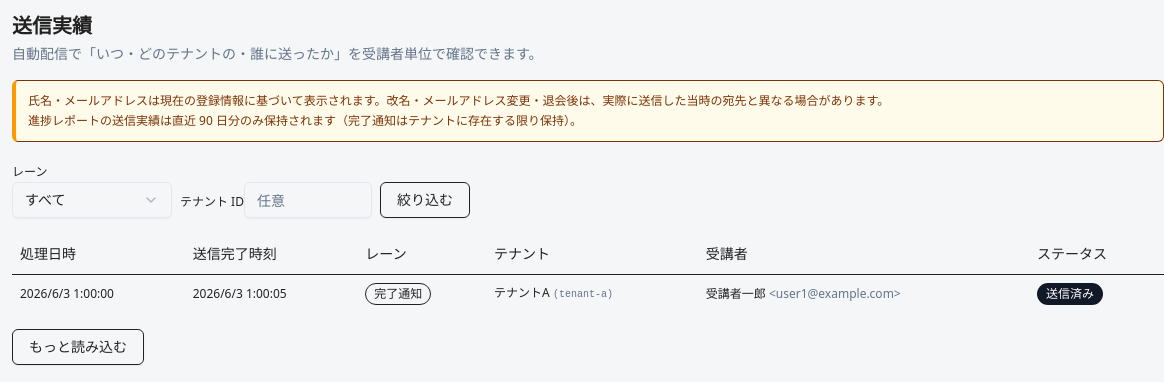
Scenario: DispatchHistoryPage › nextCursor があれば「もっと読み込む」で append する
The image size is (1164, 382).
Expected: the text "受講者一郎" is shown, [706, 284, 766, 302]
Step 1. Click the button "もっと読み込む" → (78, 346), box [12, 328, 144, 364]
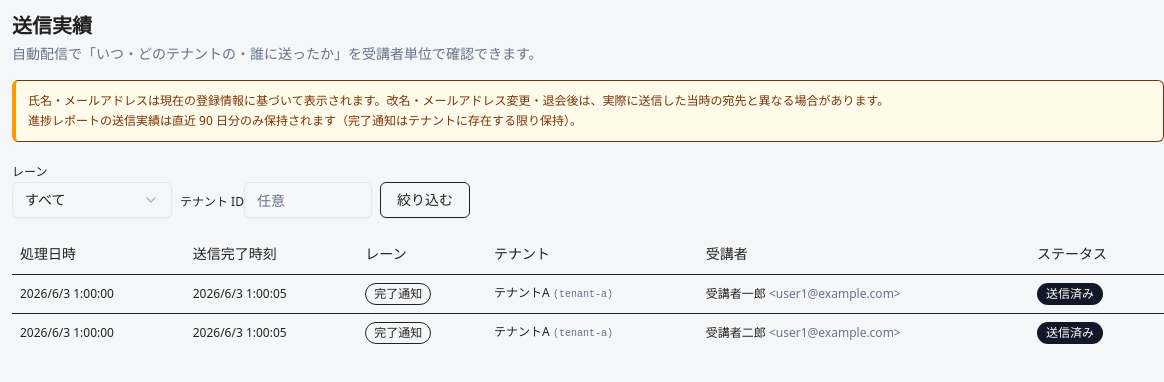
Expected: the text "受講者一郎" is shown, [706, 284, 766, 302]
Expected: the text "受講者二郎" is shown, [706, 324, 766, 340]
